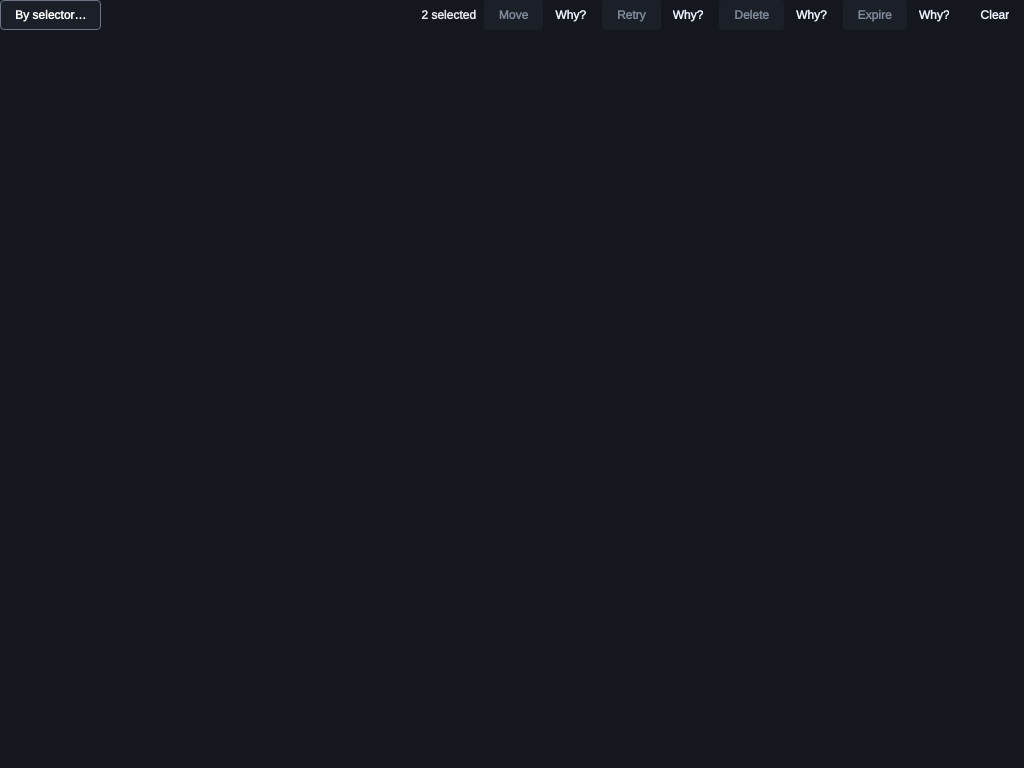
Test: MessageActions › keeps every action visible but disabled, with the reason, for an operator who may only read
Check: the button "Delete" is disabled, box [719, 0, 784, 30]
Check: the button "Move" is disabled, box [484, 0, 543, 30]
Click the button with aria-label "Why deleting the selected messages is unavailable" at coordinates (811, 15), box [788, 3, 835, 27]
(page scrolled)
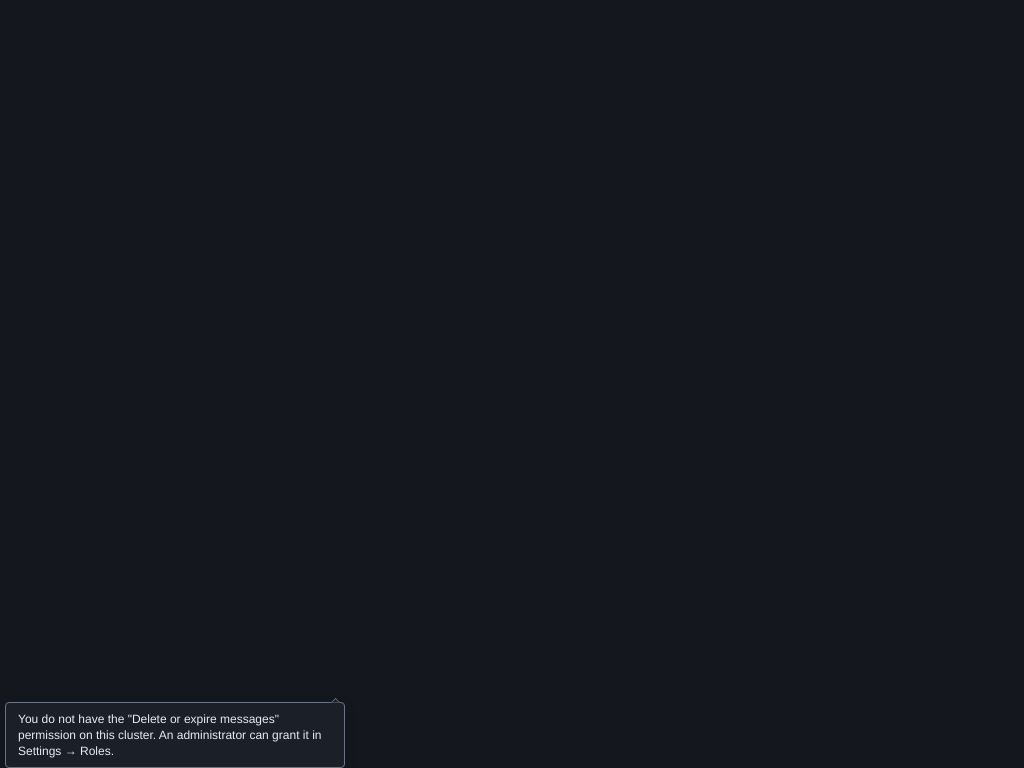
Check: the text "You do not have the \"Delete or expire messages\" permission" is shown, box [18, 710, 322, 759]
Press Escape
(page scrolled)
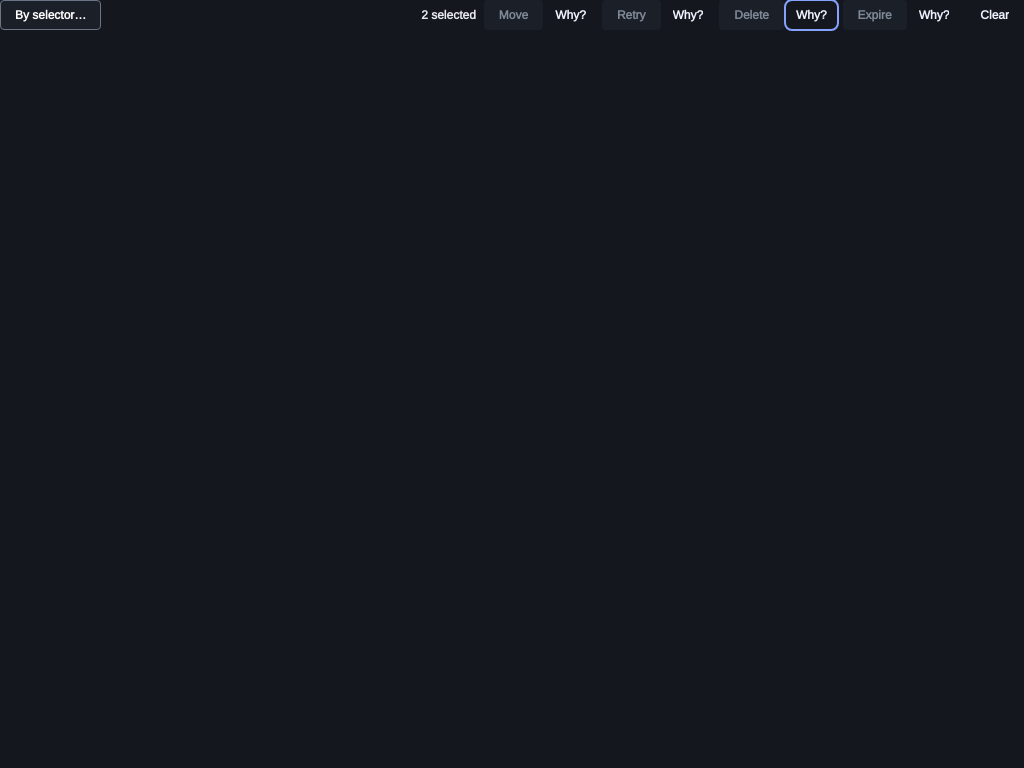
Click the button "By selector…" at coordinates (51, 15), box [0, 0, 101, 30]
(page scrolled)
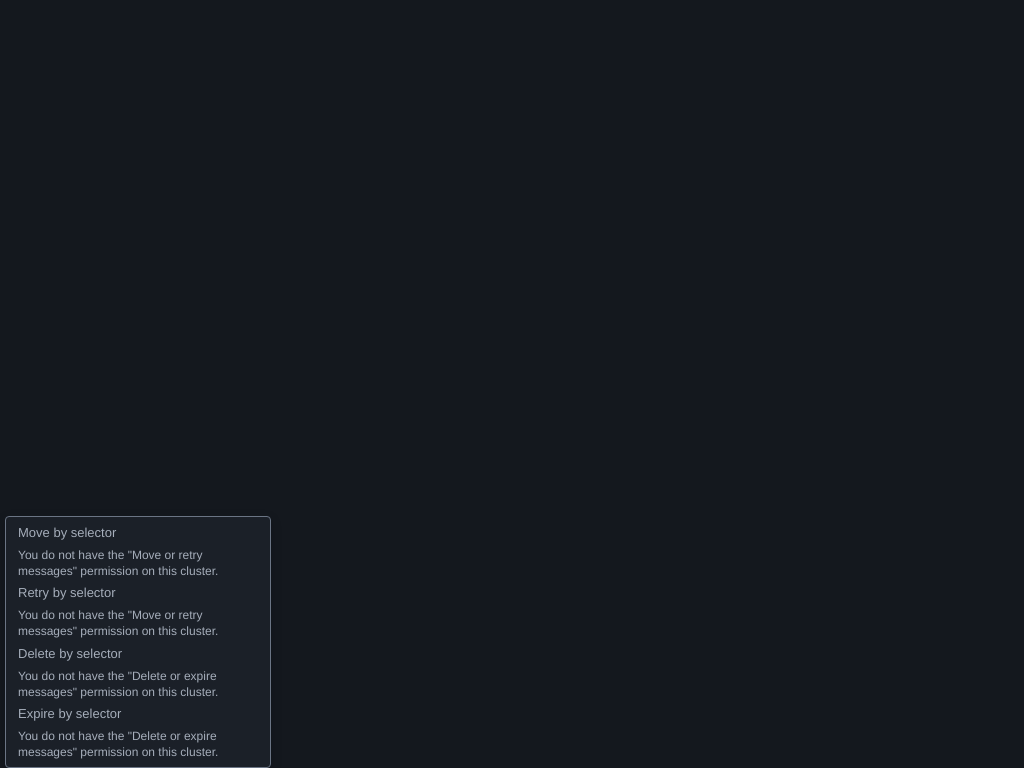
Click the menu item "Delete by selector" at coordinates (138, 672), box [10, 642, 266, 703]
(page scrolled)
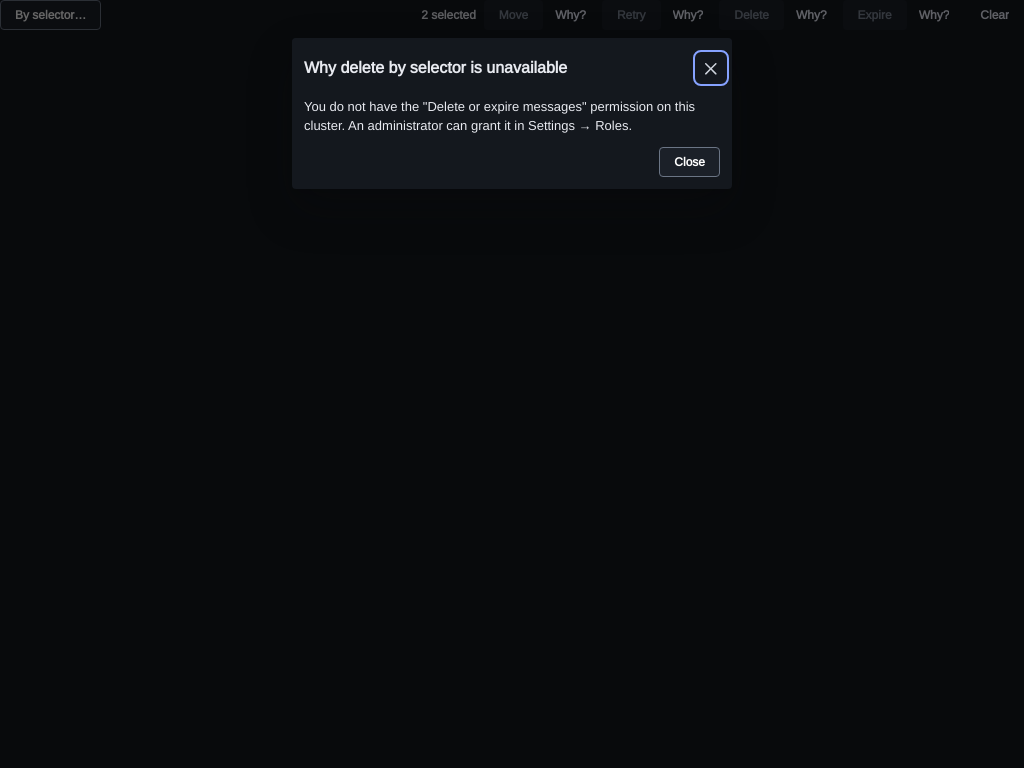
Check: the dialog "Why delete by selector is unavailable" shows "Delete or expire messages", box [304, 98, 695, 134]
